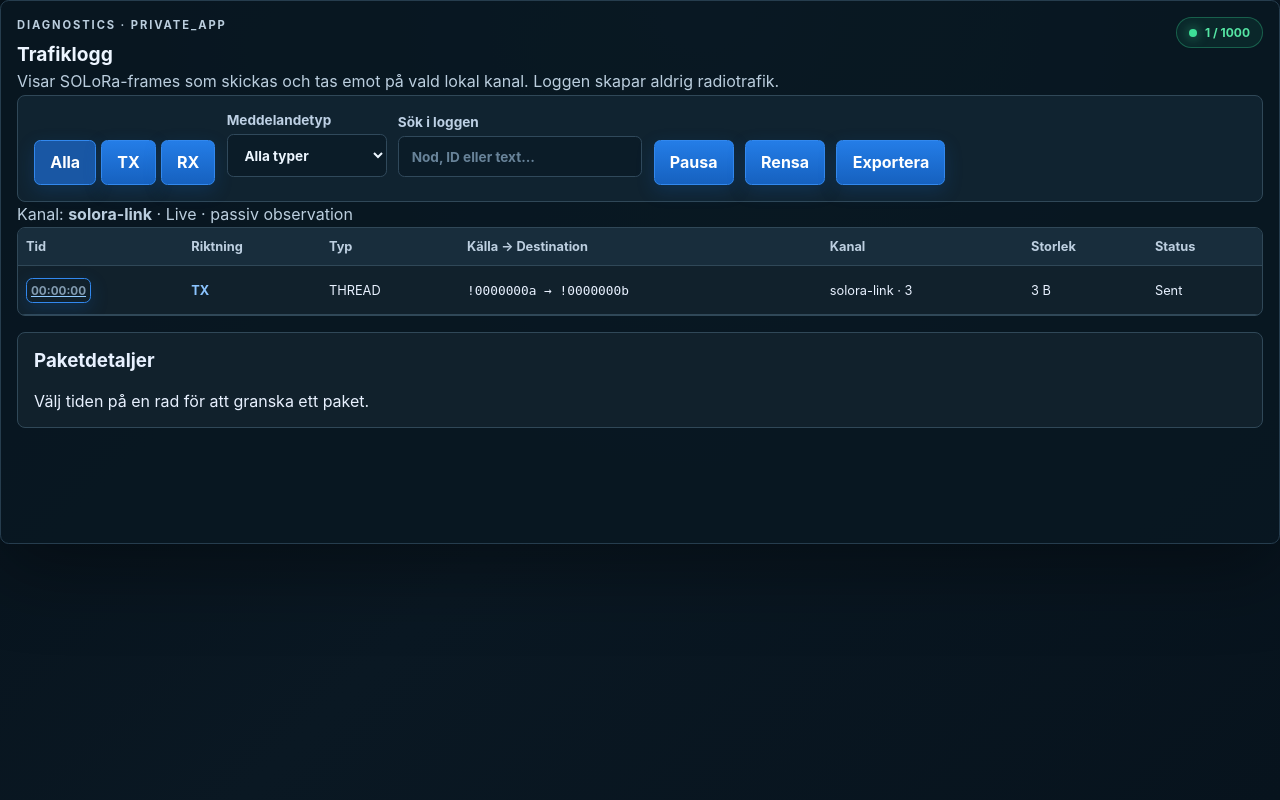
Test case: Traffic Log › clears only the diagnostic endpoint after confirmation
Click the button "Rensa" at (785, 162), box left=745, top=140, right=825, bottom=184
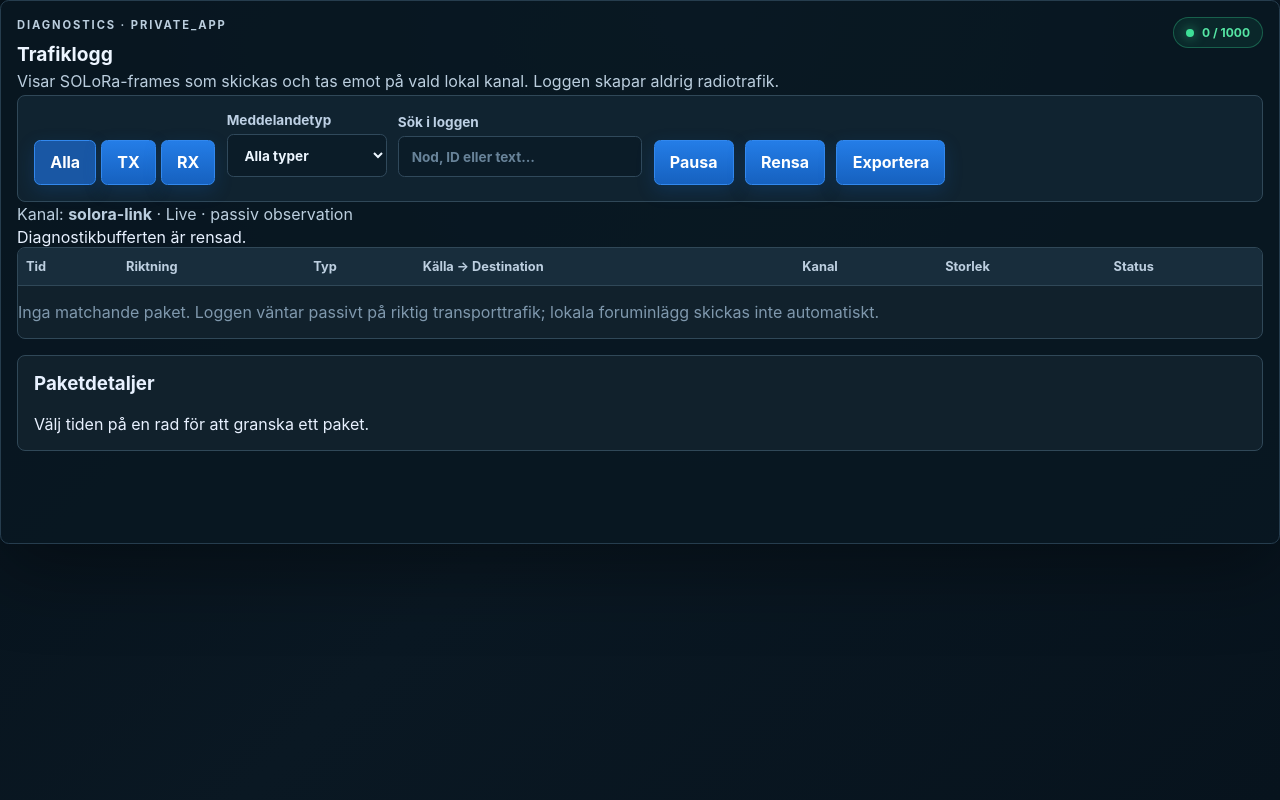
Check: the text "Diagnostikbufferten är rensad." is shown, box left=17, top=227, right=246, bottom=247
